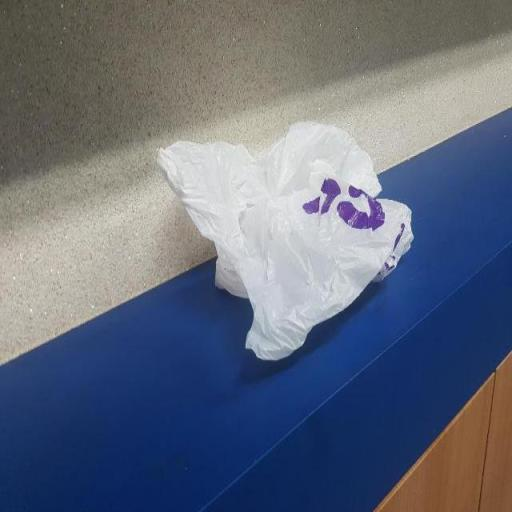plastic-bag: (153, 118, 418, 367)
